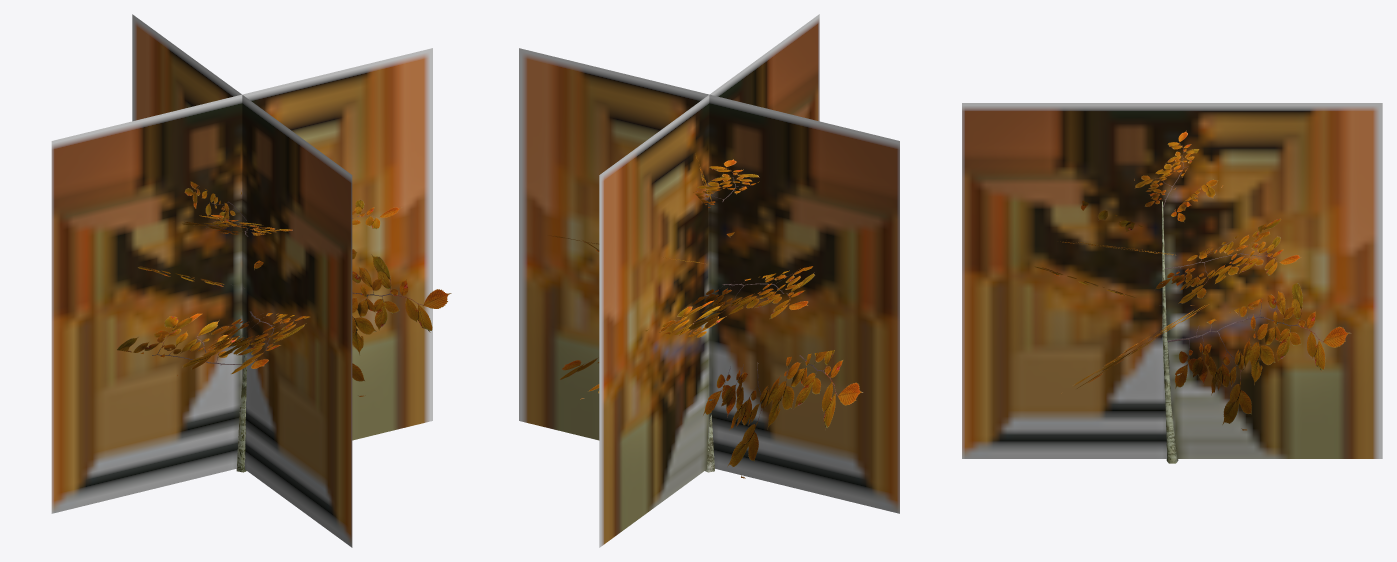
The model's file is Tree-Beech5B.fbx.
3 views of the same model, side by side, from view 1: azimuth 30°, elevation 25°; view 2: azimuth 150°, elevation 25°; view 3: azimuth 270°, elevation 25° (orthographic). The views are drawn at different scales.
Parts seen in each view (by area): view 1: Billboard-BeechB, Tree-Beech5B_LOD0; view 2: Billboard-BeechB, Tree-Beech5B_LOD0; view 3: Billboard-BeechB, Tree-Beech5B_LOD0.
Part boxes in pixels (x1,y1,x2,y2): Billboard-BeechB: (51, 14, 432, 547); Tree-Beech5B_LOD0: (117, 181, 451, 472); Billboard-BeechB: (519, 14, 899, 547); Tree-Beech5B_LOD0: (546, 155, 863, 478); Billboard-BeechB: (962, 103, 1382, 458); Tree-Beech5B_LOD0: (1034, 130, 1351, 463).
Size of what is drawn, in the model's own units: 709 by 667 by 714.
